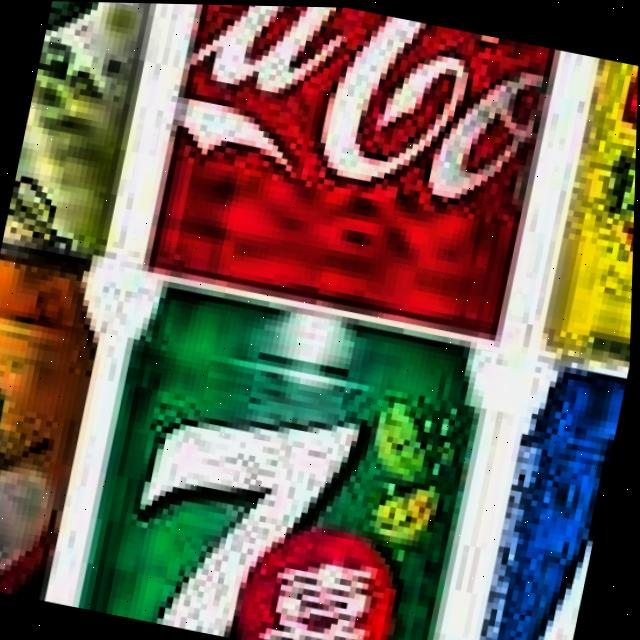metal: (63, 254, 511, 640), (128, 2, 577, 354)
